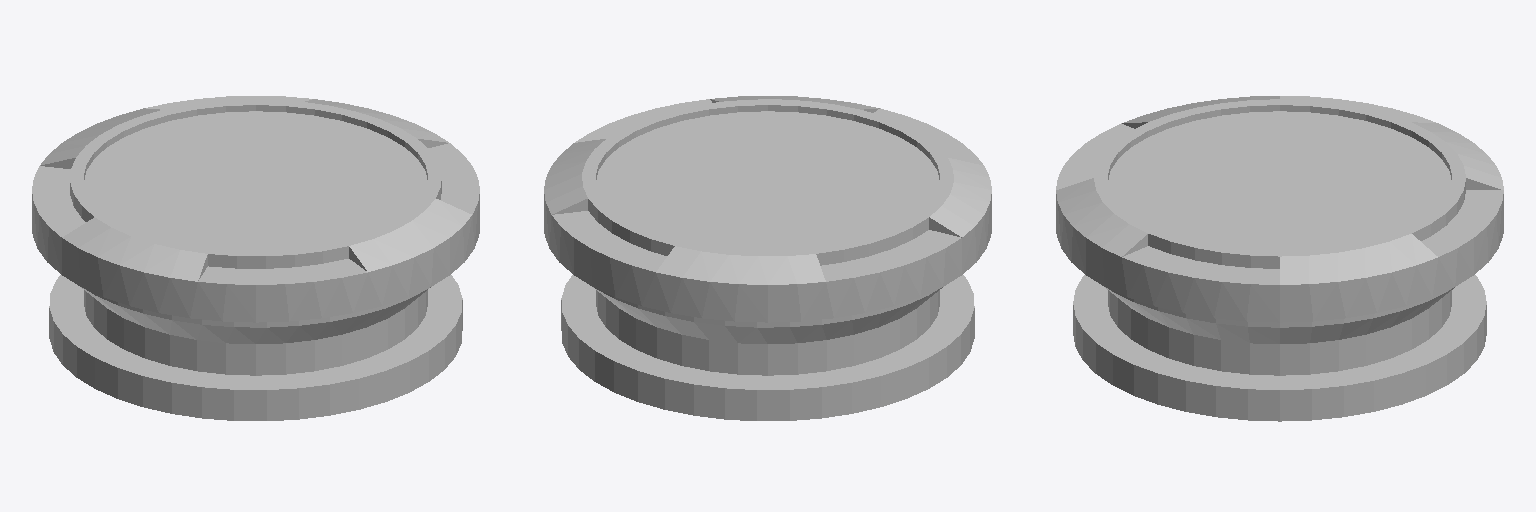
The model's file is Podest.obj.
3 renders of one model, left to right at view 1: azimuth 30°, elevation 25°; view 2: azimuth 150°, elevation 25°; view 3: azimuth 270°, elevation 25°, orthographic.
Parts seen in each view (by area): view 1: Version 2 (1); view 2: Version 2 (1); view 3: Version 2 (1).
Boxes of the visible parts, x1,y1,x2,y2 form: Version 2 (1): [32, 96, 479, 420]; Version 2 (1): [544, 96, 991, 420]; Version 2 (1): [1056, 96, 1503, 421].
Bounding box in the file's own units: 18.28 × 7.03 × 18.28.